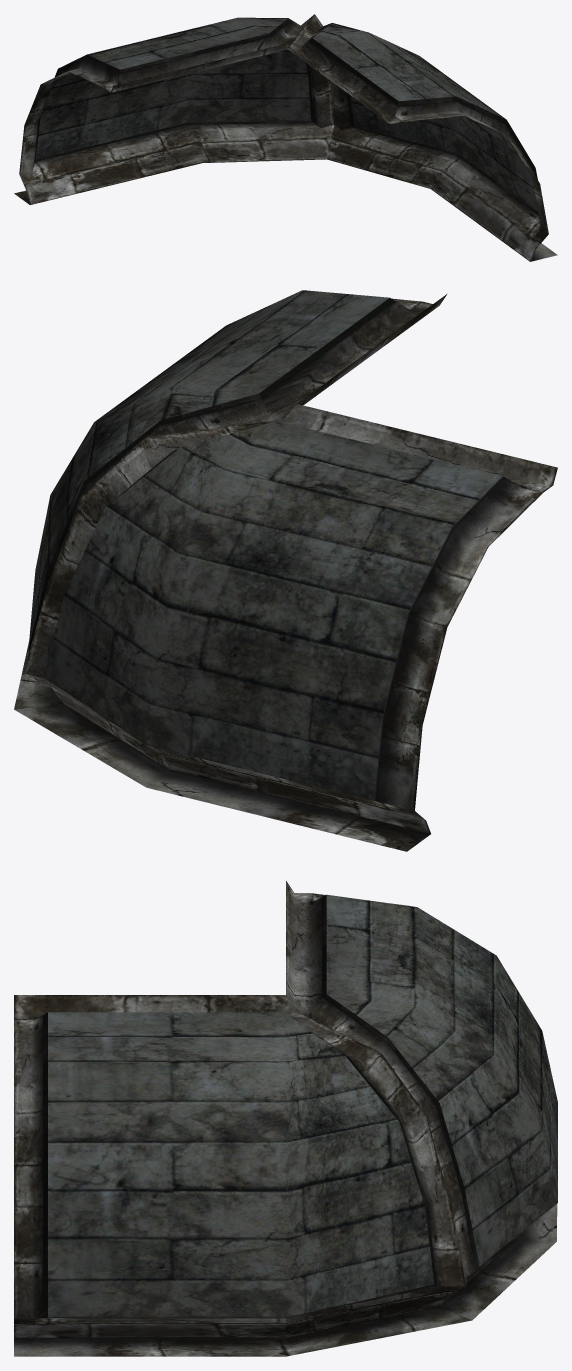
The model's file is ceiling_corner_concave_round_alt.dae.
The picture shows the model from 3 angles, top to bottom: view 1: azimuth 30°, elevation 25°; view 2: azimuth 150°, elevation 25°; view 3: azimuth 270°, elevation 25°; orthographic projection. The views are drawn at different scales.
Parts seen in each view (by area): view 1: polySurface1; view 2: polySurface1; view 3: polySurface1.
Boxes of the visible parts, x1,y1,x2,y2 form: polySurface1: (14,14,557,261); polySurface1: (14,290,557,851); polySurface1: (14,881,557,1356).
Bounding box in the file's own units: 4 × 2 × 4.
